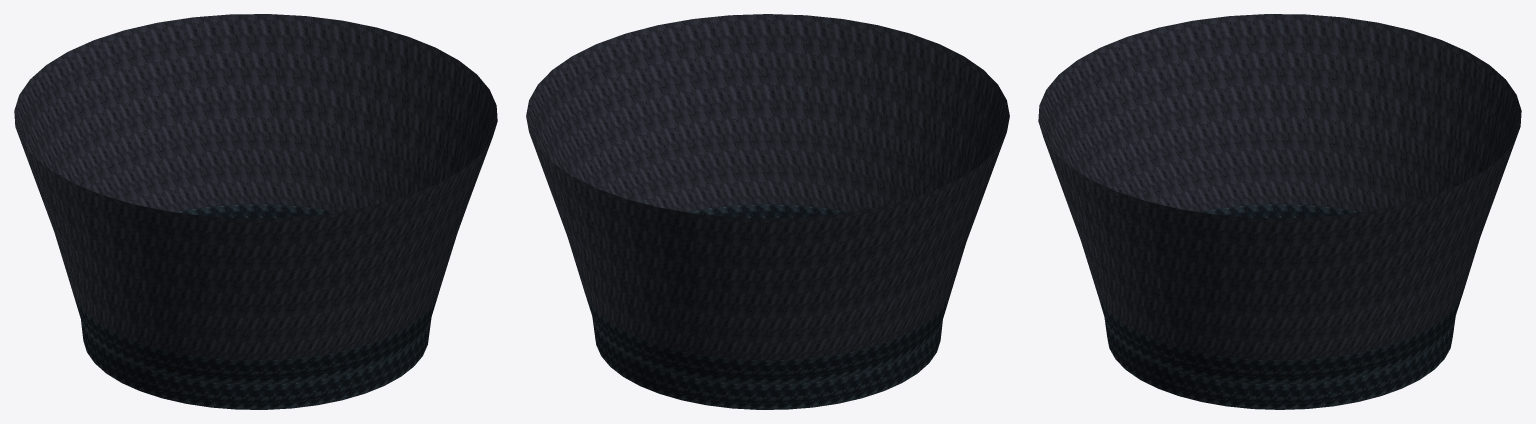
Rendered from pared_tormenta.obj.
3 views of the same model, side by side, from view 1: azimuth 30°, elevation 25°; view 2: azimuth 150°, elevation 25°; view 3: azimuth 270°, elevation 25° (orthographic).
Visible parts, largest first — view 1: pared_tormenta; view 2: pared_tormenta; view 3: pared_tormenta.
Boxes of the visible parts, x1,y1,x2,y2 form: pared_tormenta: (14,14,497,409); pared_tormenta: (526,14,1009,409); pared_tormenta: (1038,14,1521,409).
Bounding box in the file's own units: 280 × 141 × 280.
2 materials, 2 textured.
